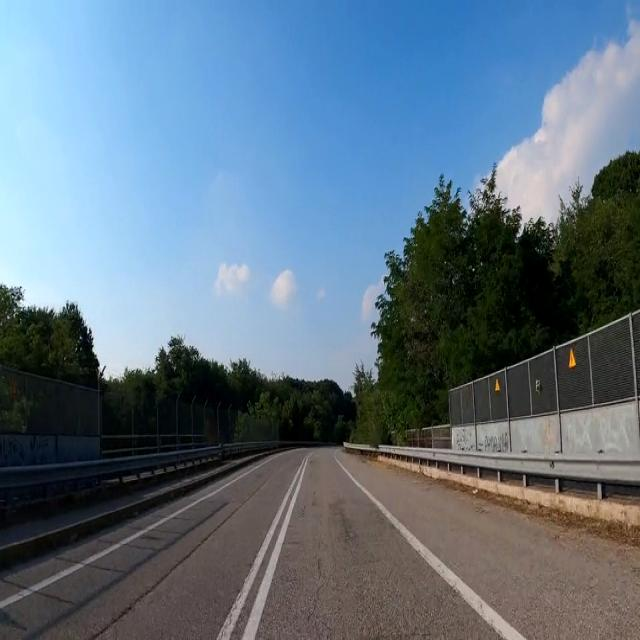lane: (0, 455, 275, 609), (335, 456, 525, 639)
road: (0, 447, 639, 638)
